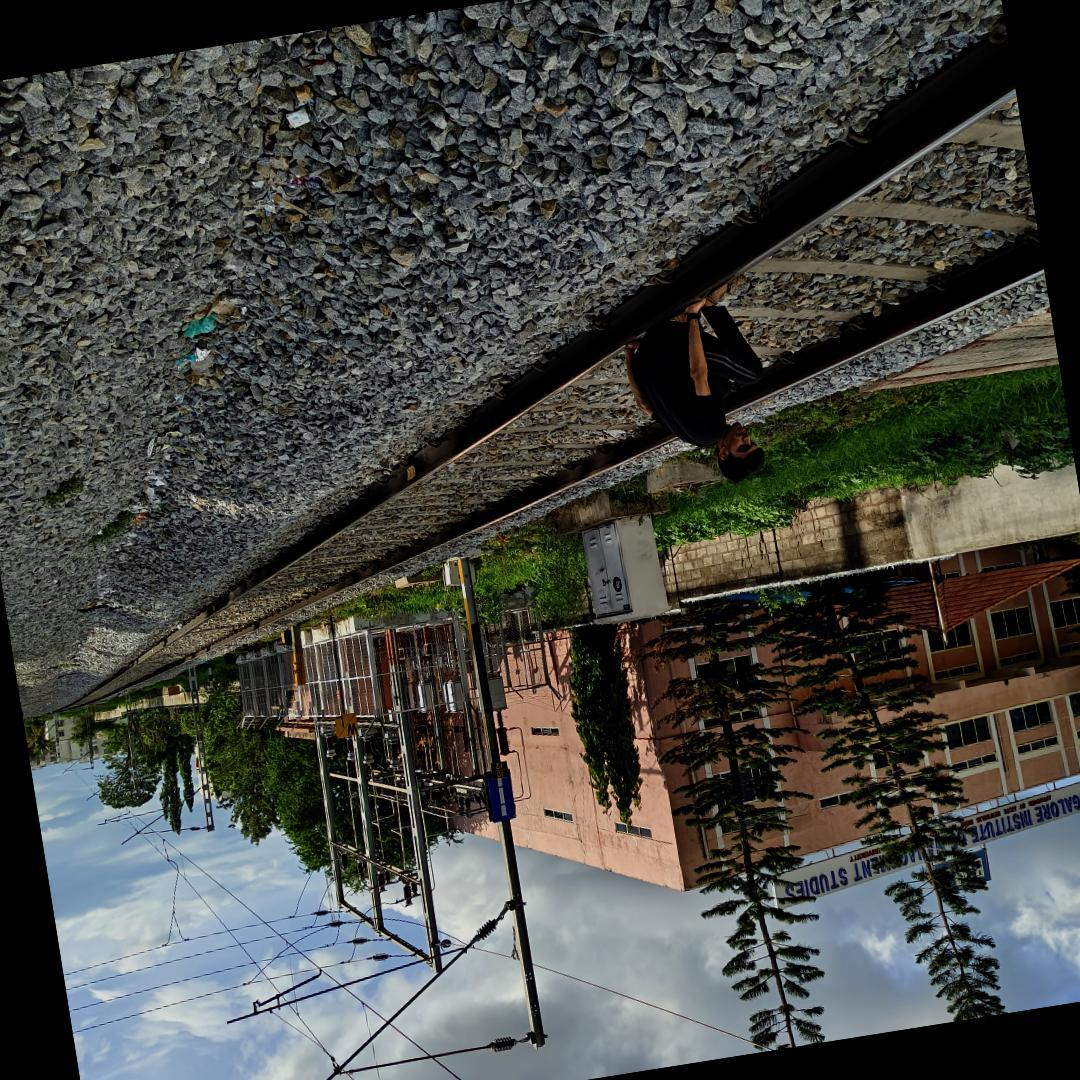sitting: (600, 268, 788, 506)
